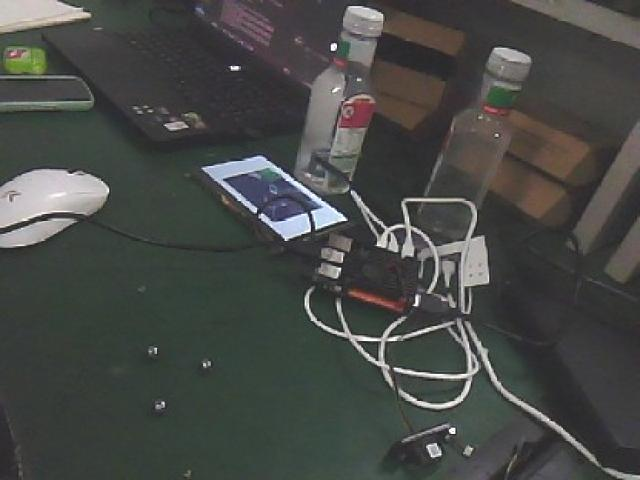steel-ball: (140, 388, 177, 424), (186, 348, 217, 380), (130, 331, 158, 363)
